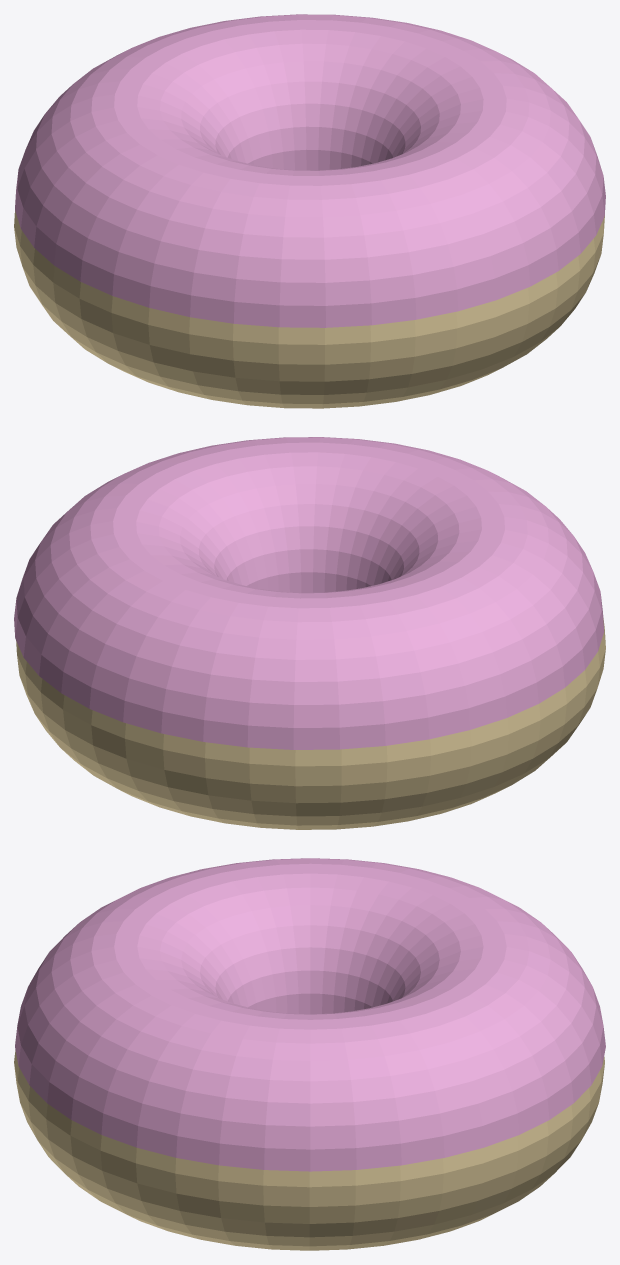
The model's file is donut.glb.
The picture shows the model from 3 angles, top to bottom: view 1: azimuth 30°, elevation 25°; view 2: azimuth 150°, elevation 25°; view 3: azimuth 270°, elevation 25°; orthographic projection.
Parts seen in each view (by area): view 1: Torus.001, Torus; view 2: Torus.001, Torus; view 3: Torus.001, Torus.
Boxes of the visible parts, bbox=[...] form: Torus.001: bbox=[15, 14, 605, 327]; Torus: bbox=[14, 210, 604, 408]; Torus.001: bbox=[14, 437, 604, 749]; Torus: bbox=[16, 618, 605, 829]; Torus.001: bbox=[15, 858, 605, 1171]; Torus: bbox=[14, 1050, 604, 1250].
Bounding box in the file's own units: 3.21 × 1.29 × 3.2.
